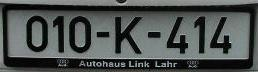-: (146, 32, 162, 39), (96, 31, 109, 39)
0: (25, 15, 48, 52), (69, 15, 91, 53)
1: (194, 15, 205, 54), (53, 15, 64, 53)
4: (166, 15, 188, 54), (210, 15, 232, 54)
K: (115, 16, 142, 54)
